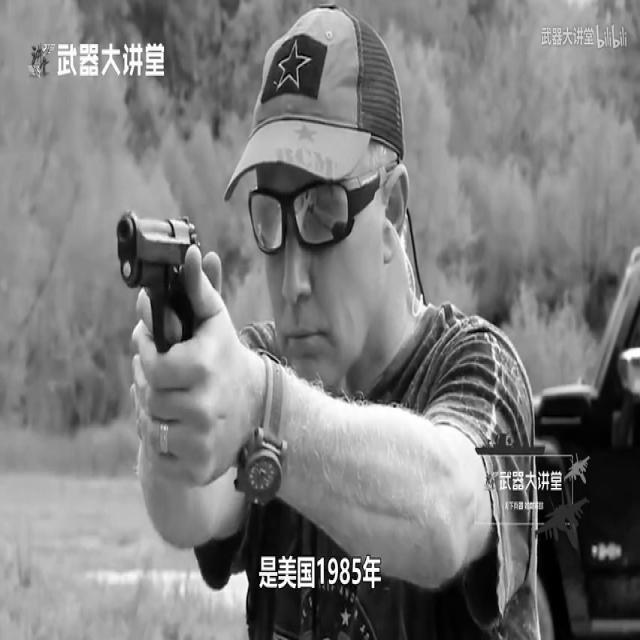Hand-Gun: (109, 198, 199, 379)
